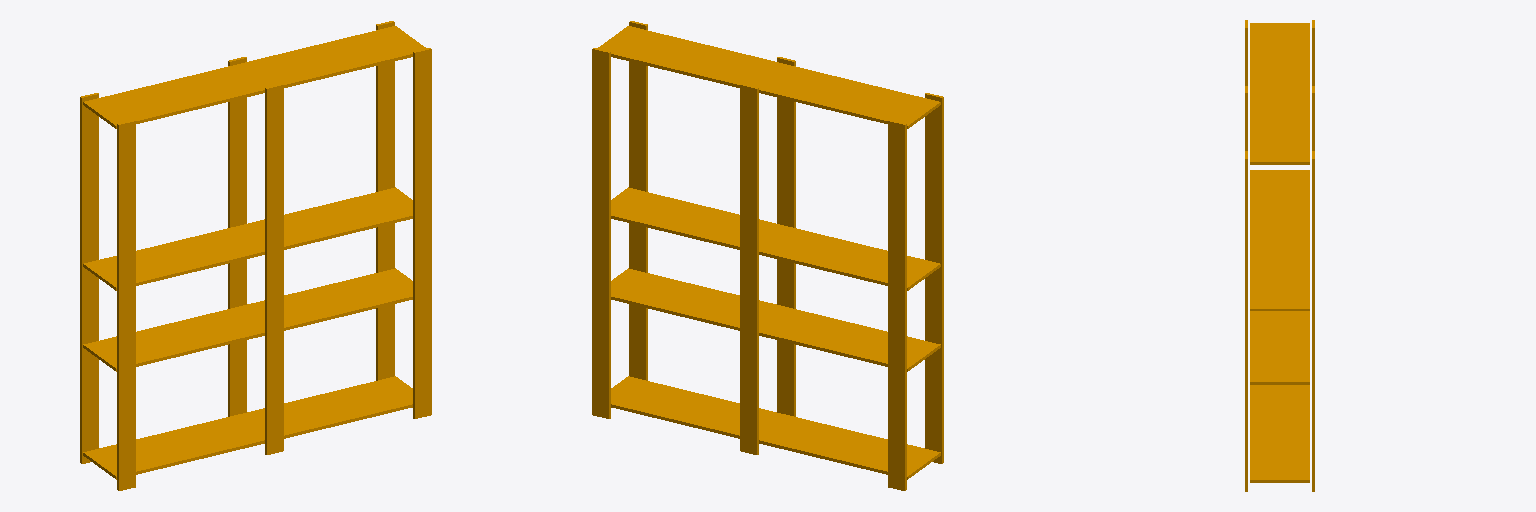
The robot description file, URDF, robot "sushi_shelf_model":
<robot name="sushi_shelf_model">
  <link name="sushi_shelf">
    <inertial>
      <mass value="3.0" />
      <!-- center of mass (com) is defined w.r.t. link local coordinate system -->
      <origin xyz="0 0 0.10" /> 
      <inertia  ixx="0.01" ixy="0.0"  ixz="0.0"  iyy="0.01"  iyz="0.0"  izz="0.01" />
    </inertial>
    <visual>
      <!-- visual origin is defined w.r.t. link local coordinate system -->
      <origin xyz="0 0 0" rpy="0 0 0" />
      <geometry>
        <mesh filename="package://manipulation_worlds/meshes/sushi_shelf.dae" scale="1.0 1.0 1.0" />
      </geometry>
    </visual>
    <collision>
      <!-- collision origin is defined w.r.t. link local coordinate system -->
      <origin xyz="0 0 0" rpy="0 0 0" />
      <geometry>
        <mesh filename="package://manipulation_worlds/meshes/sushi_shelf.dae" scale="1.0 1.0 1.0" />
      </geometry>
    </collision>
  </link>
  <gazebo reference="sushi_shelf">
    <material>Gazebo/Yellow</material>
    <turnGravityOff>false</turnGravityOff>
    <genTexCoord>true</genTexCoord>
    <kp>100000000.0</kp>
    <kd>1000000.0</kd>
  </gazebo>
</robot>

--- What the picture shows (computed from the rendered views, not written in the file) ---
The picture shows the robot from 3 angles, left to right: view 1: azimuth 30°, elevation 25°; view 2: azimuth 150°, elevation 25°; view 3: azimuth 270°, elevation 25°; orthographic projection.
Model sushi_shelf_model with 1 links and 0 joints (none), rooted at sushi_shelf, posed every joint at zero.
Links seen in each view (by area): view 1: sushi_shelf; view 2: sushi_shelf; view 3: sushi_shelf.
Link boxes in pixels (x1=…): sushi_shelf: x1=80, y1=21, x2=431, y2=490; sushi_shelf: x1=592, y1=21, x2=943, y2=490; sushi_shelf: x1=1245, y1=20, x2=1314, y2=491.
Size in the robot's own frame: 1.55 by 0.333 by 1.74 metres.
Meshes: 1 distinct files referenced, 1 mesh visuals loaded (1 Collada DAE).